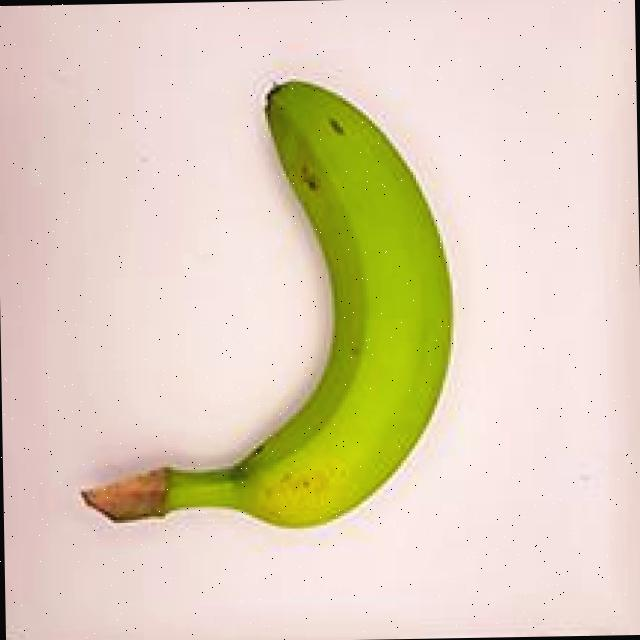Unripe: (76, 65, 454, 548)
